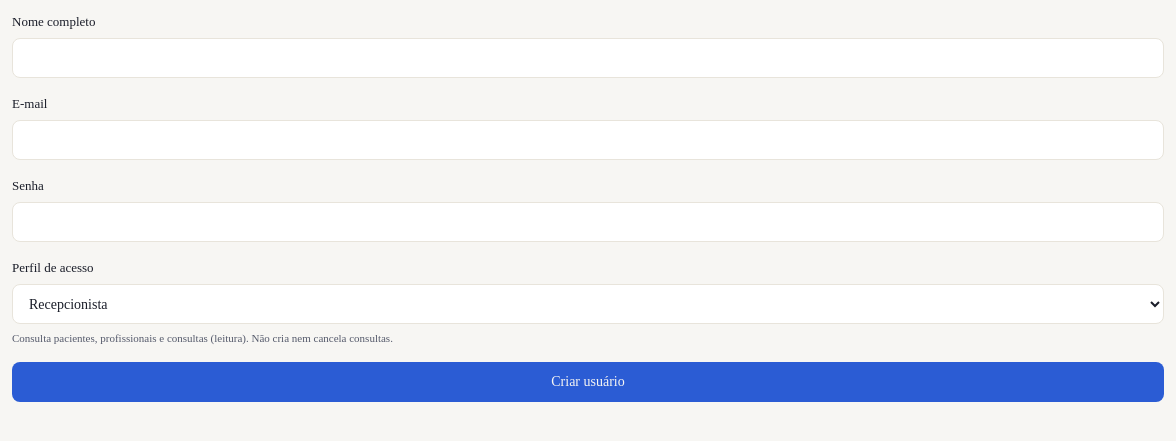
Test: UserForm (integration) — create mode › shows validation error for invalid email
The width and height of the screenshot is (1176, 441).
In the field with test id "user-form-fullname": point(588, 58) [12,38,1164,78], type "Bob Silva"
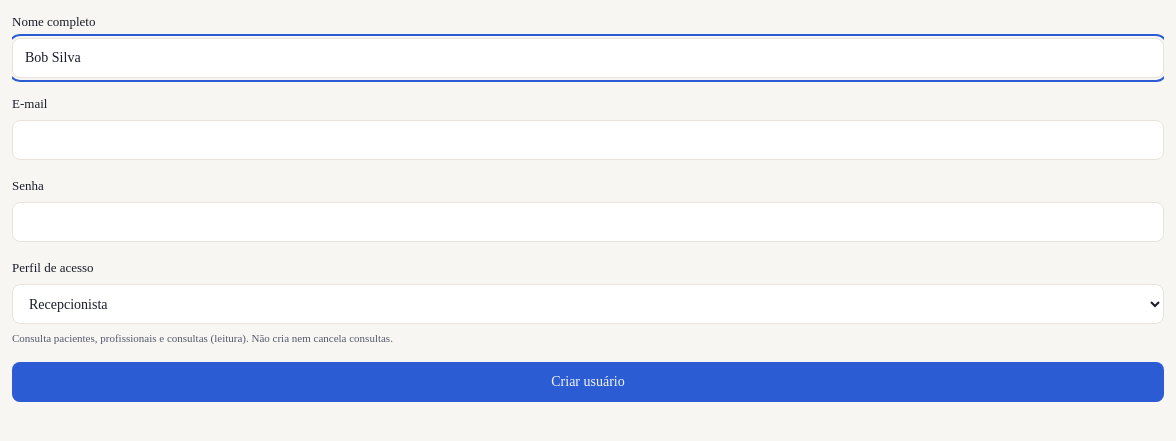
In the field with test id "user-form-email": point(588, 140) [12,120,1164,160], type "invalid-email"
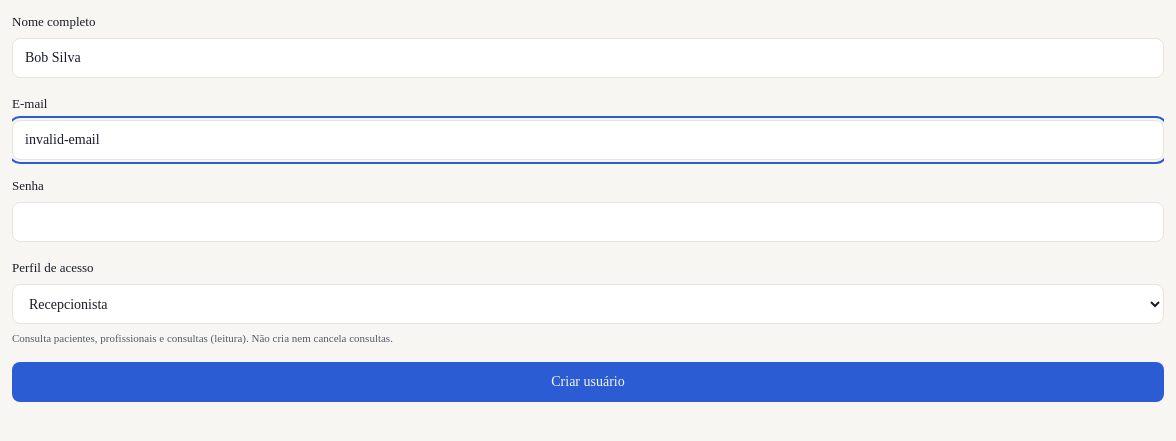
In the password field with test id "user-form-password": point(588, 222) [12,202,1164,242], type "password123"
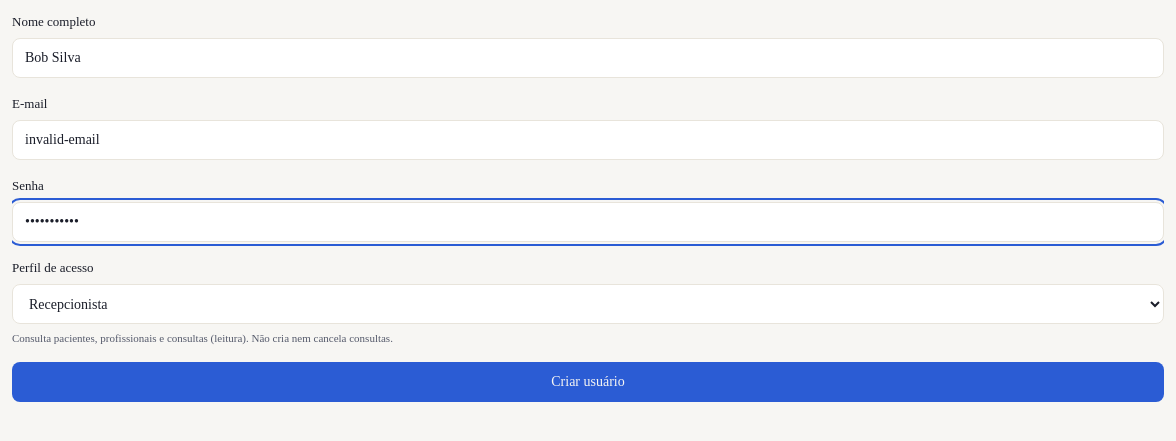
Click the button with test id "user-form-submit": point(588, 382) [12,362,1164,402]
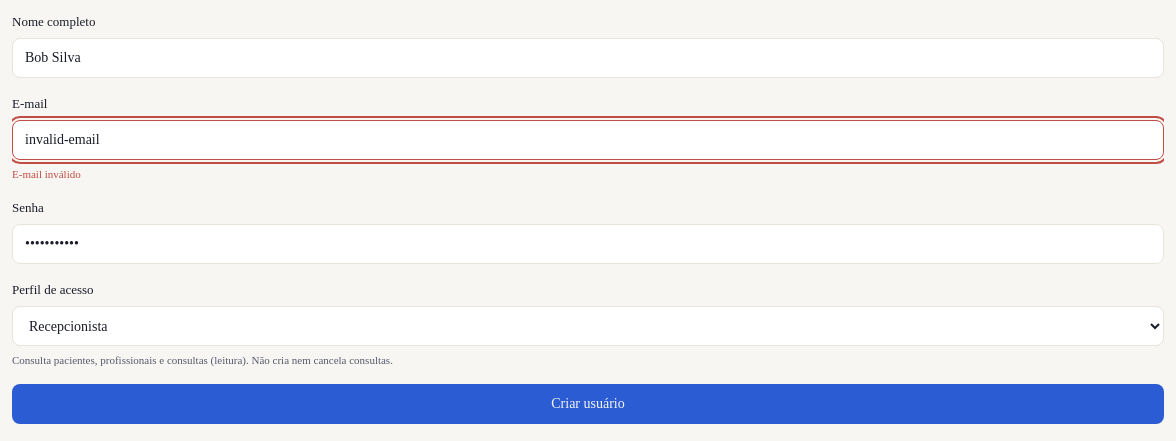
Check: the text "E-mail inválido" is shown, box [12,168,81,180]
